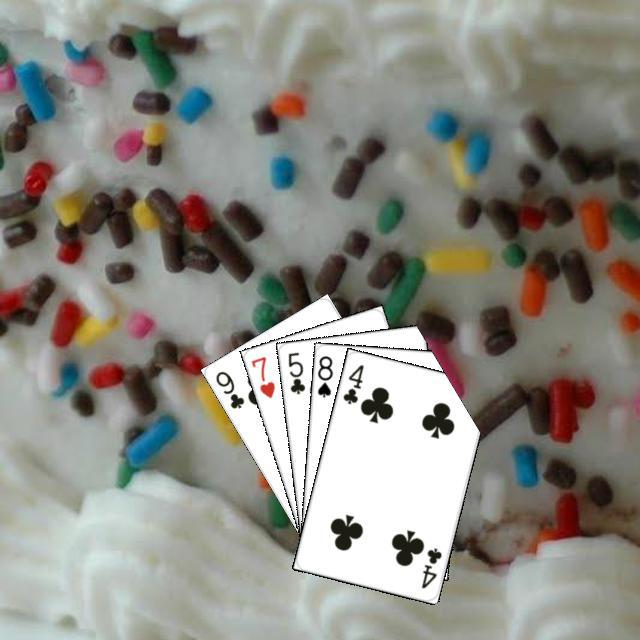4c: (416, 543, 443, 590), (338, 360, 365, 406)
5c: (283, 347, 307, 396)
7h: (246, 351, 277, 400)
8s: (312, 351, 334, 399)
9c: (210, 366, 246, 410)
